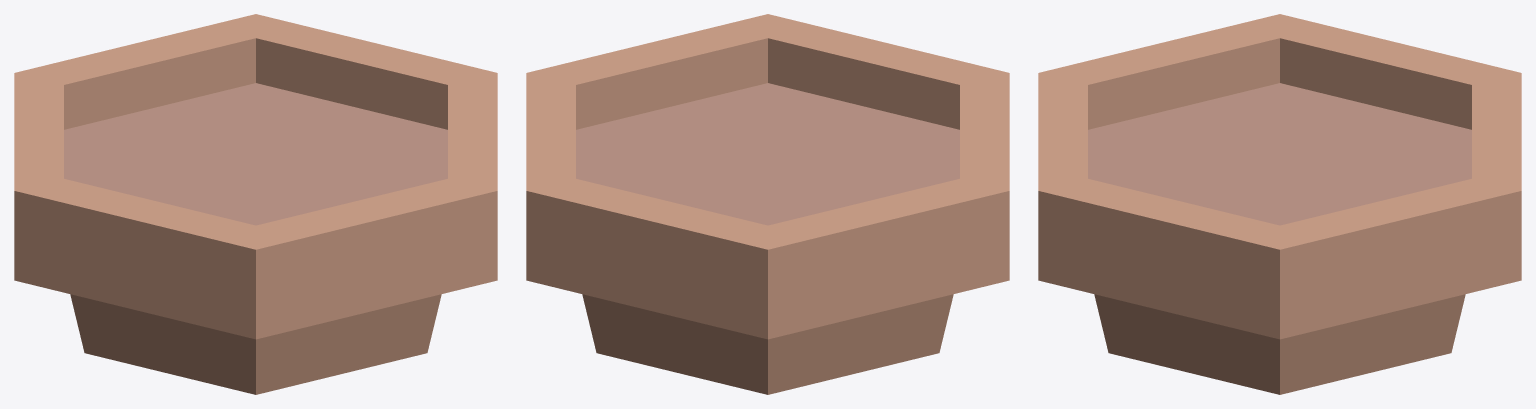
Rendered from pot_large.glb.
3 views of the same model, side by side, from view 1: azimuth 30°, elevation 25°; view 2: azimuth 150°, elevation 25°; view 3: azimuth 270°, elevation 25° (orthographic).
Visible parts, largest first — view 1: pot_large; view 2: pot_large; view 3: pot_large.
Boxes of the visible parts, <box> form: pot_large: <box>14,14,497,394</box>; pot_large: <box>526,14,1009,394</box>; pot_large: <box>1038,14,1521,394</box>.
Size of the model in its own units: 0.5636 by 0.2 by 0.4881.
